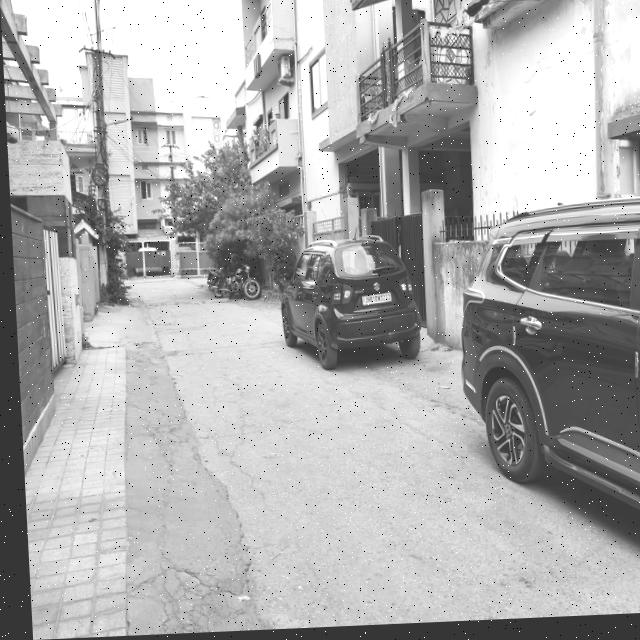bike: (212, 263, 260, 303)
car: (443, 205, 640, 592), (265, 232, 424, 378)
